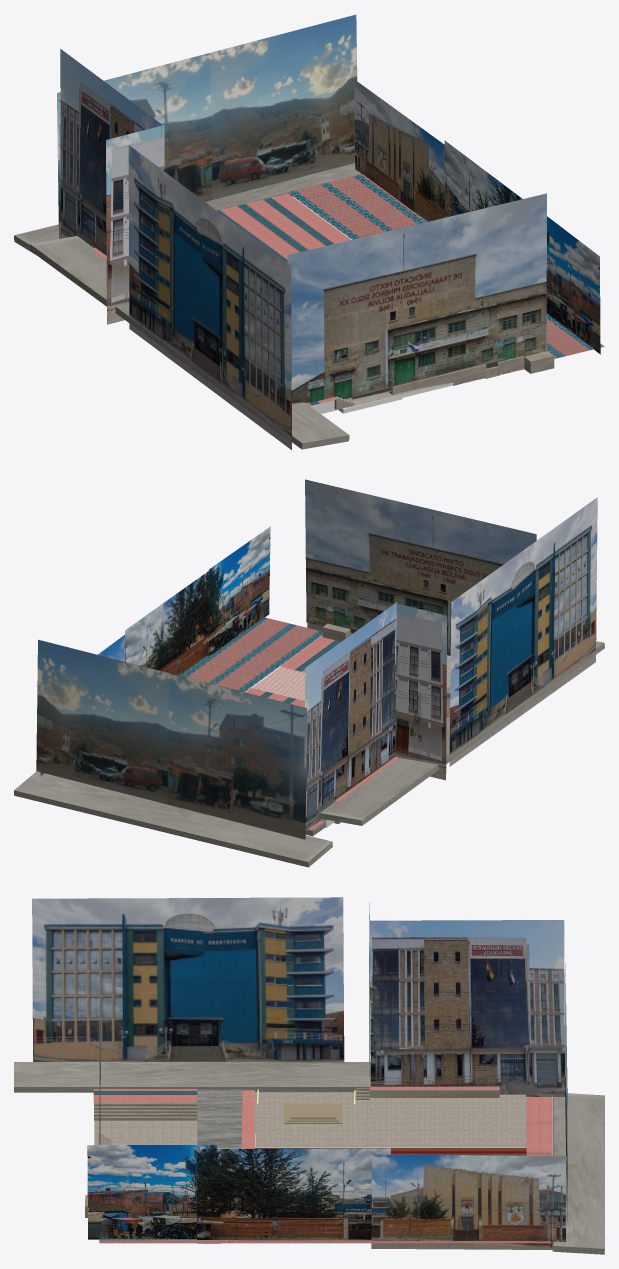
The model's file is piso.glb.
3 renders of one model, top to bottom at view 1: azimuth 30°, elevation 25°; view 2: azimuth 150°, elevation 25°; view 3: azimuth 270°, elevation 25°, orthographic. The views are drawn at different scales.
Parts seen in each view (by area): view 1: Plane, Plane.057, Plane.041, Plane.047, Plane.042, Cube.004, Plane.044, Plane.058, Plane.050, Plane.017, Plane.043, Cube.019 (+4 smaller); view 2: Plane.057, Plane.041, Plane, Plane.047, Cube.019, Plane.058, Plane.043, Plane.044, Cube.004, Plane.053, Plane.054, Plane.020 (+2 smaller); view 3: Plane.041, Plane.047, Plane.042, Plane.043, Cube.004, Plane.044, Cube.019, Cube.011, Cube.015, Plane.037, Plane.049, Cube.008 (+26 smaller).
Part boxes in pixels (x1=…): Plane: x1=287, y1=193, x2=546, y2=404; Plane.057: x1=57, y1=14, x2=357, y2=238; Plane.041: x1=128, y1=145, x2=291, y2=449; Plane.047: x1=60, y1=49, x2=161, y2=255; Plane.042: x1=354, y1=79, x2=444, y2=221; Cube.004: x1=29, y1=236, x2=349, y2=449; Plane.044: x1=546, y1=216, x2=600, y2=354; Plane.058: x1=106, y1=125, x2=164, y2=324; Plane.050: x1=288, y1=174, x2=413, y2=231; Plane.017: x1=217, y1=193, x2=340, y2=249; Plane.043: x1=444, y1=140, x2=522, y2=217; Cube.019: x1=14, y1=163, x2=361, y2=254; Plane.057: x1=36, y1=639, x2=307, y2=839; Plane.041: x1=449, y1=497, x2=597, y2=766; Plane: x1=305, y1=479, x2=536, y2=656; Plane.047: x1=305, y1=602, x2=396, y2=830; Cube.019: x1=14, y1=771, x2=332, y2=867; Plane.058: x1=394, y1=602, x2=446, y2=780; Plane.043: x1=124, y1=571, x2=208, y2=675; Plane.044: x1=207, y1=526, x2=270, y2=656; Cube.004: x1=319, y1=641, x2=604, y2=825; Plane.053: x1=190, y1=635, x2=301, y2=684; Plane.054: x1=239, y1=617, x2=322, y2=649; Plane.020: x1=252, y1=667, x2=305, y2=700; Plane.041: x1=32, y1=897, x2=344, y2=1062; Plane.047: x1=369, y1=920, x2=565, y2=1096; Plane.042: x1=371, y1=1154, x2=566, y2=1249; Plane.043: x1=196, y1=1148, x2=390, y2=1243; Cube.004: x1=14, y1=1062, x2=370, y2=1092; Plane.044: x1=87, y1=1145, x2=216, y2=1239; Cube.019: x1=552, y1=1093, x2=604, y2=1254; Cube.011: x1=94, y1=1102, x2=197, y2=1120; Cube.015: x1=197, y1=1103, x2=242, y2=1143; Plane.037: x1=526, y1=1097, x2=552, y2=1154; Plane.049: x1=93, y1=1089, x2=197, y2=1102; Cube.008: x1=254, y1=1148, x2=526, y2=1155.
Bounding box in the file's own units: 61.38 × 32.89 × 91.15.
Materials: 83 (73 with a texture image).
